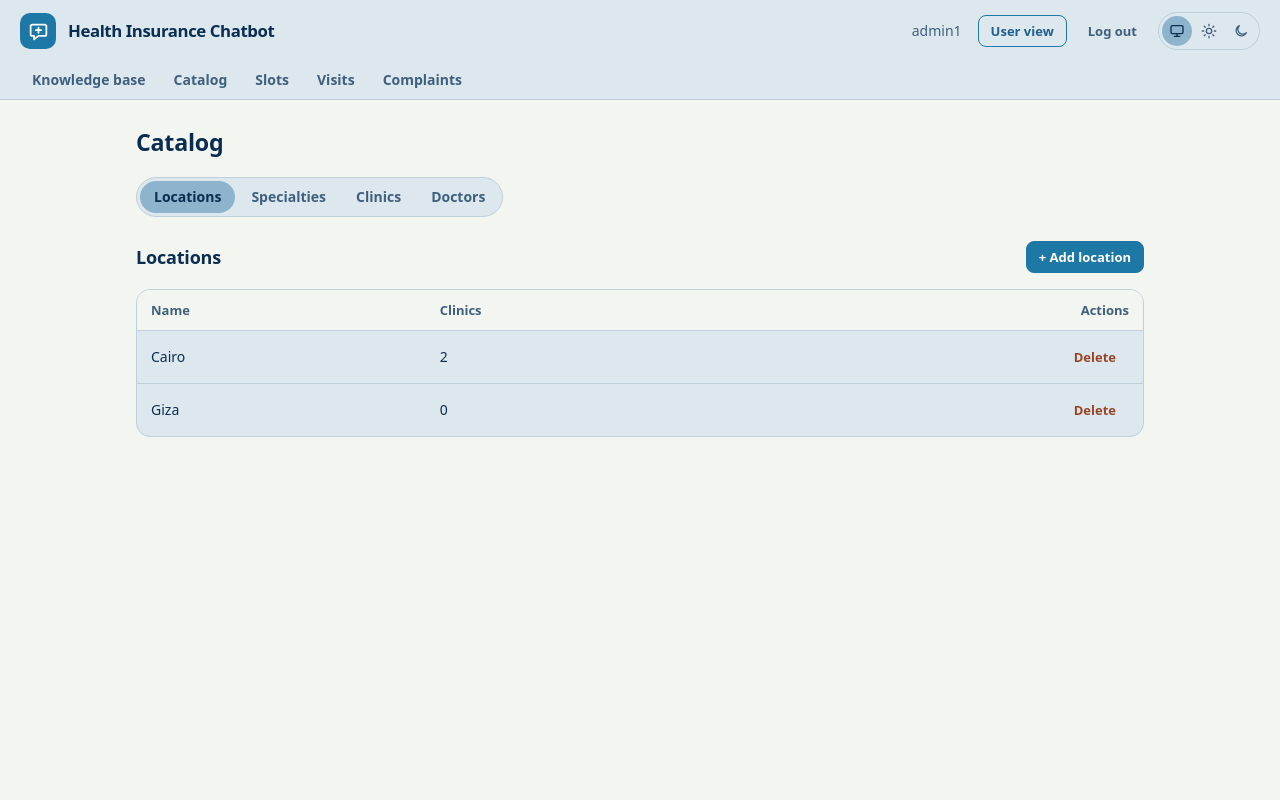
Test: AdminCatalogPage › A5: the confirm dialog lists what the delete cascades to
This screenshot has width=1280, height=800.
Click the button with test id "catalog-delete" in the row of "Cairo" at (1095, 357), box [1061,341,1129,373]
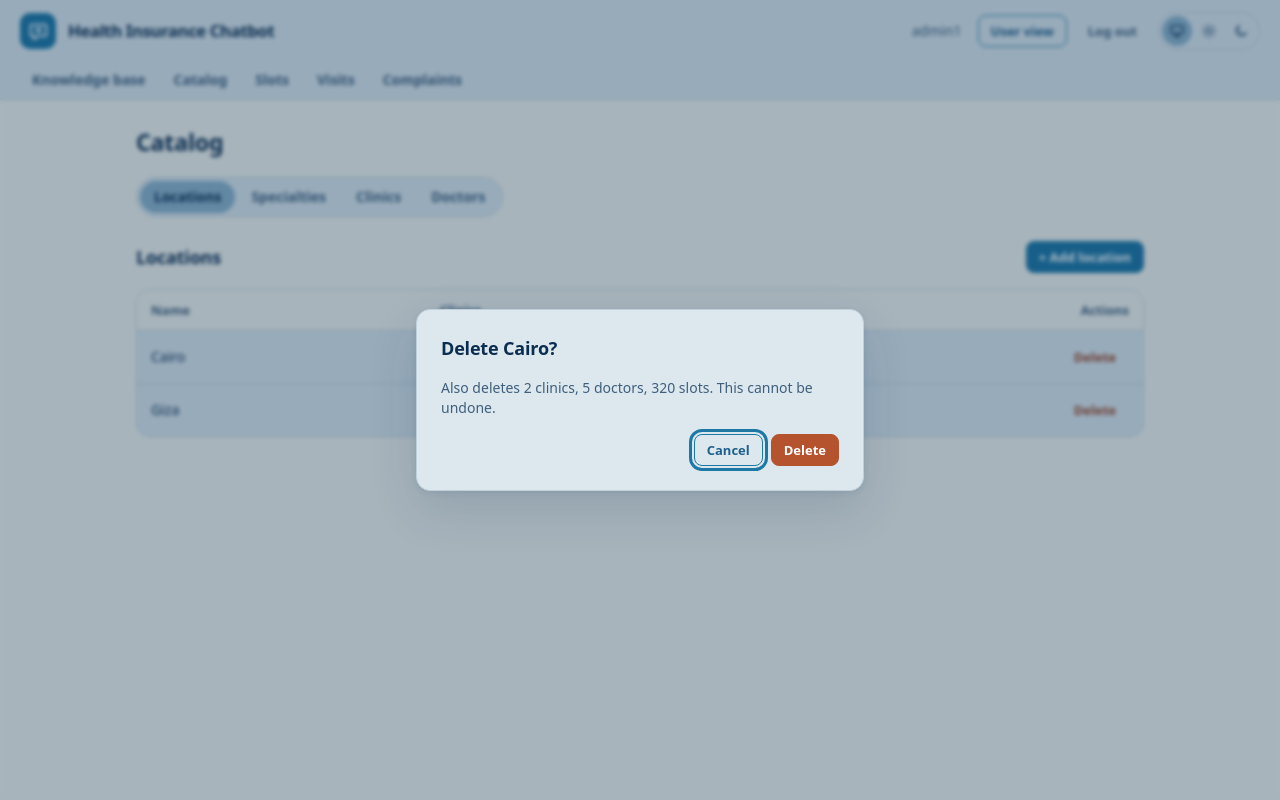
Now the dialog shows "Also deletes 2 clinics, 5 doctors, 320 slots.", box [441,378,813,417]
